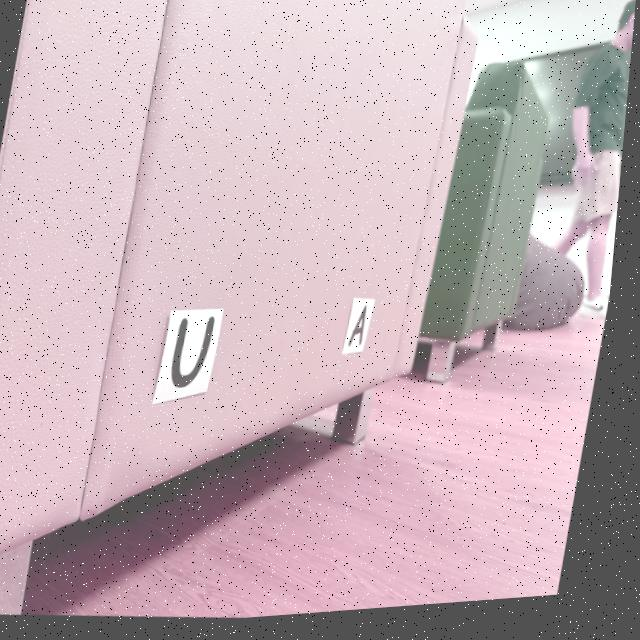A: (354, 310, 373, 352)
U: (178, 321, 221, 390)
